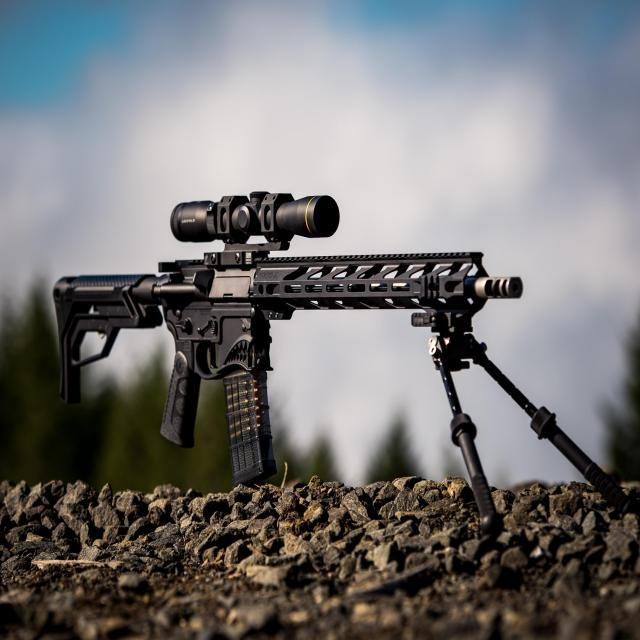weapon: (52, 192, 617, 536)
